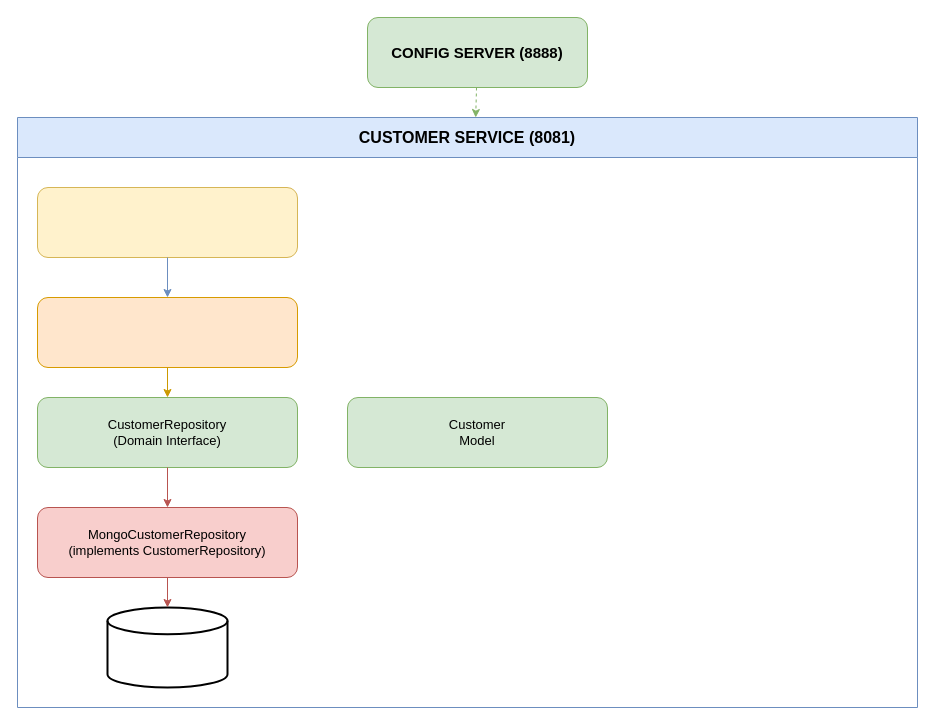
Image size: 935x725. Some labels were removed from this diagram. The shapes that lost their labels are listed below. From the top down, each one's box as (x1, y1, x2, y2) in pixels, then its label:
(36, 186, 298, 258): CustomerController /api/v1/customers
(36, 296, 298, 368): CustomerApplicationService (business logic)
(106, 606, 228, 688): MongoDB customers collection
